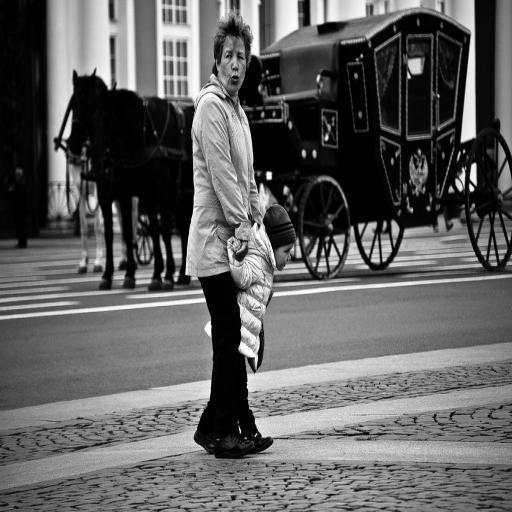horse: (92, 80, 190, 292), (64, 66, 132, 288)
